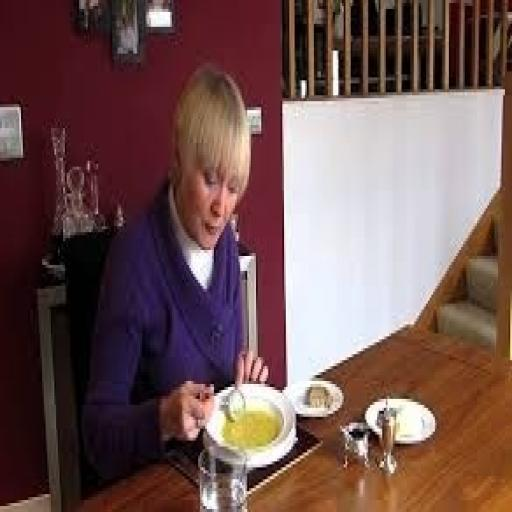eating: (79, 60, 270, 482)
